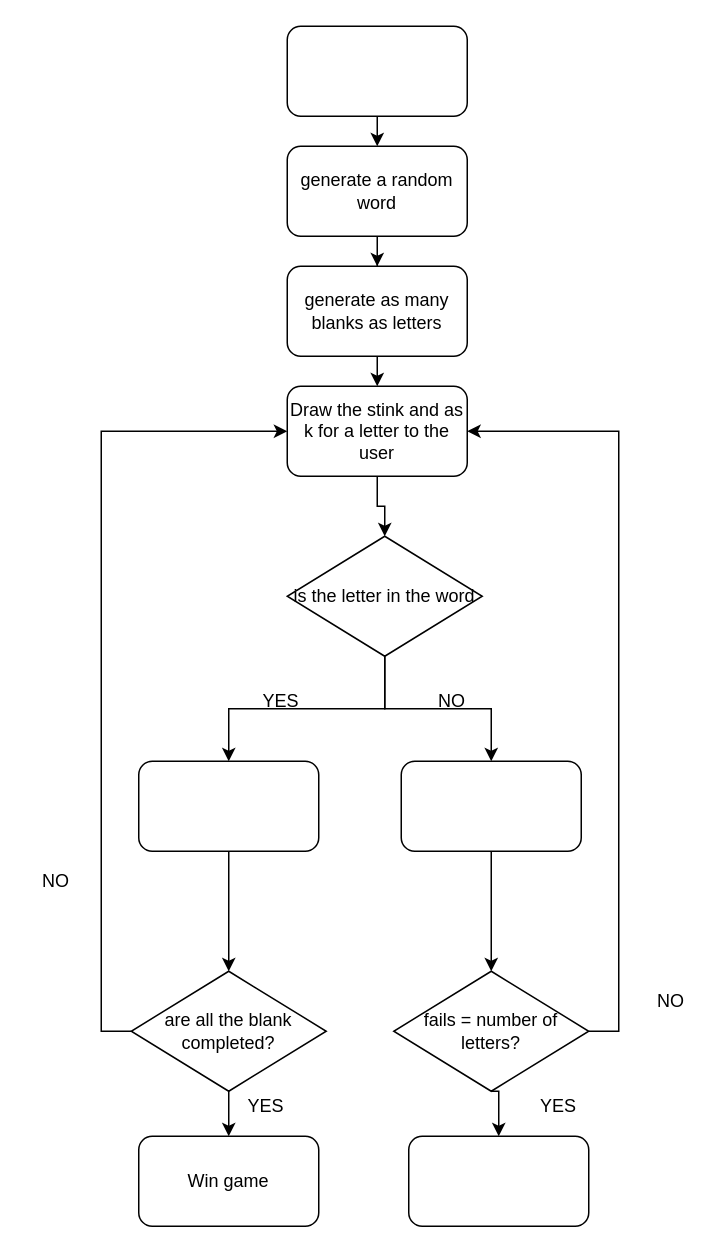
The diagram is 726 pixels wide and 1253 high, and some of its shapes have lost their labels. Each missing label, with the centre of its shape:
"Add a part of the hanging man and lose a life" goes at pixel 490 805.
"complete the letter in the word" goes at pixel 228 805.
"game over" goes at pixel 498 1180.
"start game" goes at pixel 376 70.
